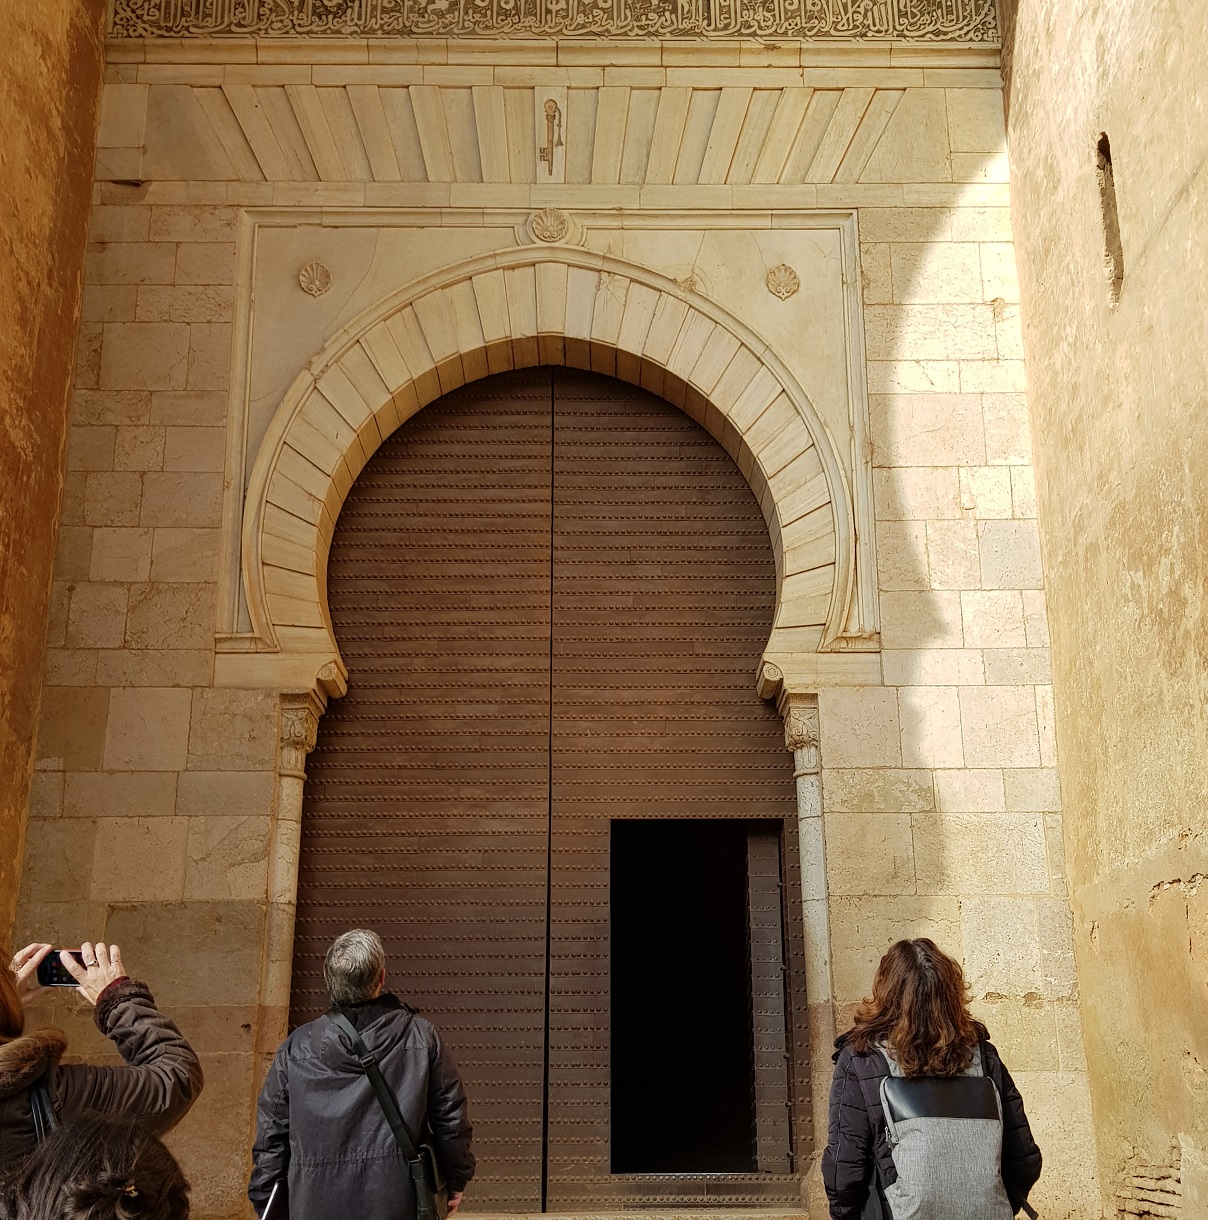arco-herradura: (269, 305, 818, 737)
dintel-adovelado: (217, 85, 906, 188)
